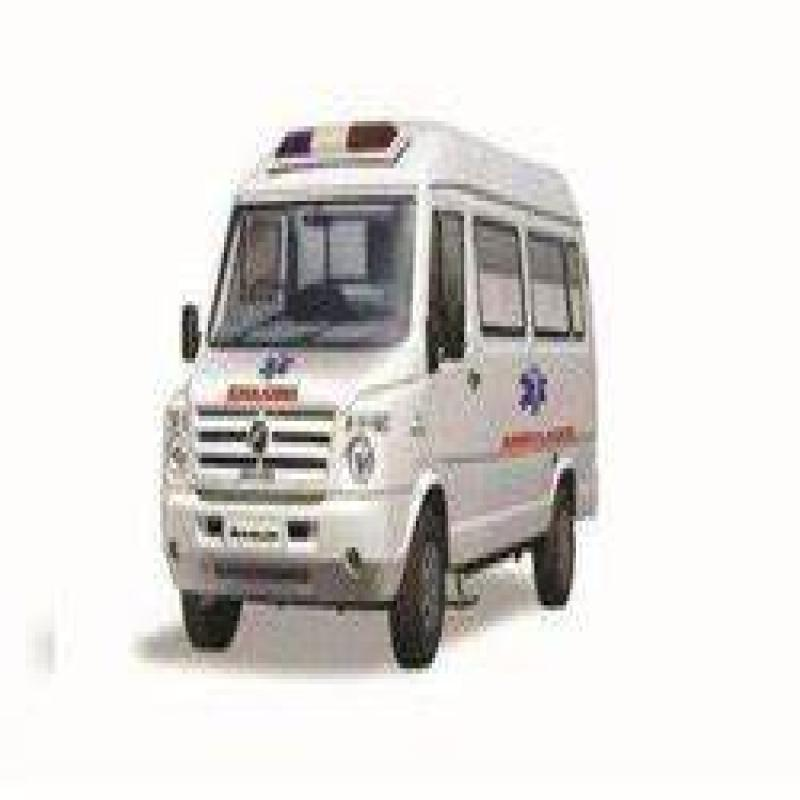AmbulanceSiren: (272, 118, 402, 163)
